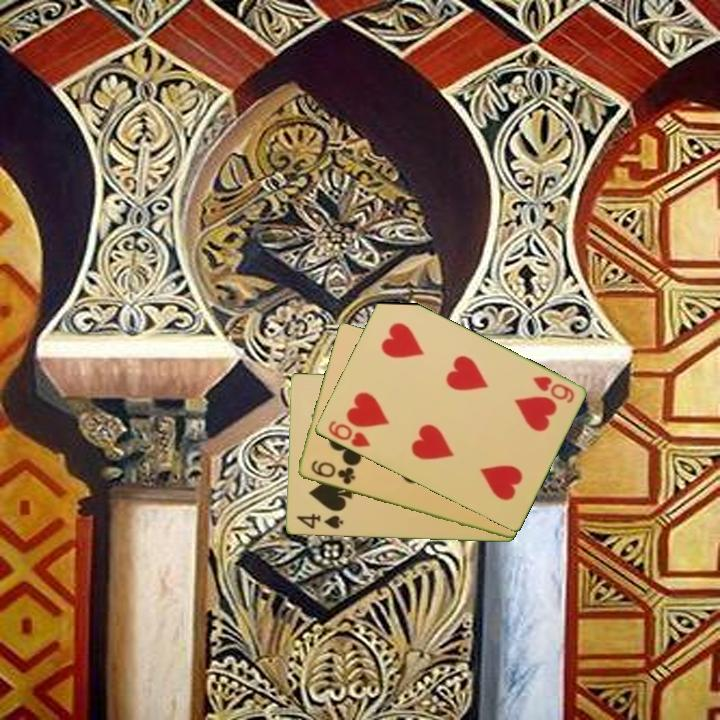4s: (293, 510, 346, 532)
6c: (307, 457, 358, 488)
6h: (324, 417, 373, 450), (529, 373, 577, 406)
